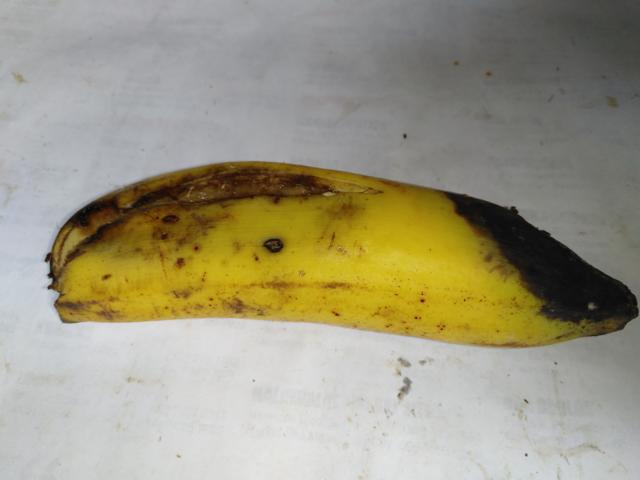rotten: (10, 141, 365, 276), (429, 164, 639, 339)
